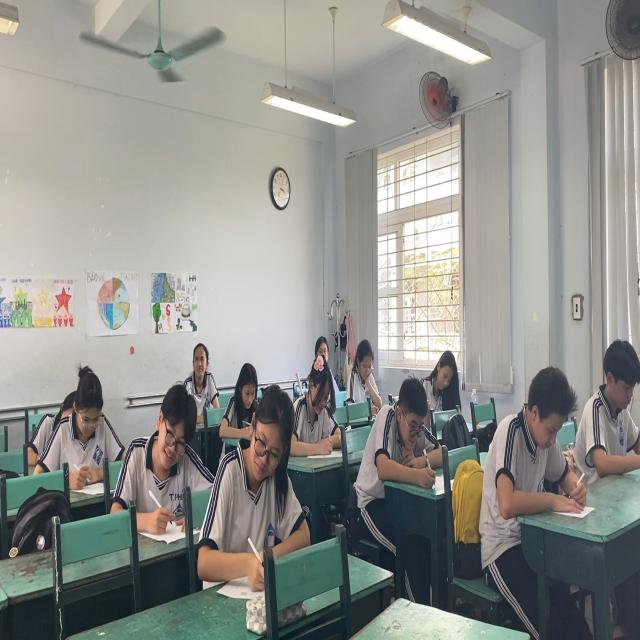cheating: (226, 378, 301, 557), (124, 378, 206, 516)
not_cheating: (488, 356, 590, 526), (576, 326, 640, 474), (45, 361, 116, 478), (366, 378, 438, 475), (292, 354, 344, 457), (422, 337, 463, 416), (345, 337, 381, 402), (188, 343, 218, 413)
